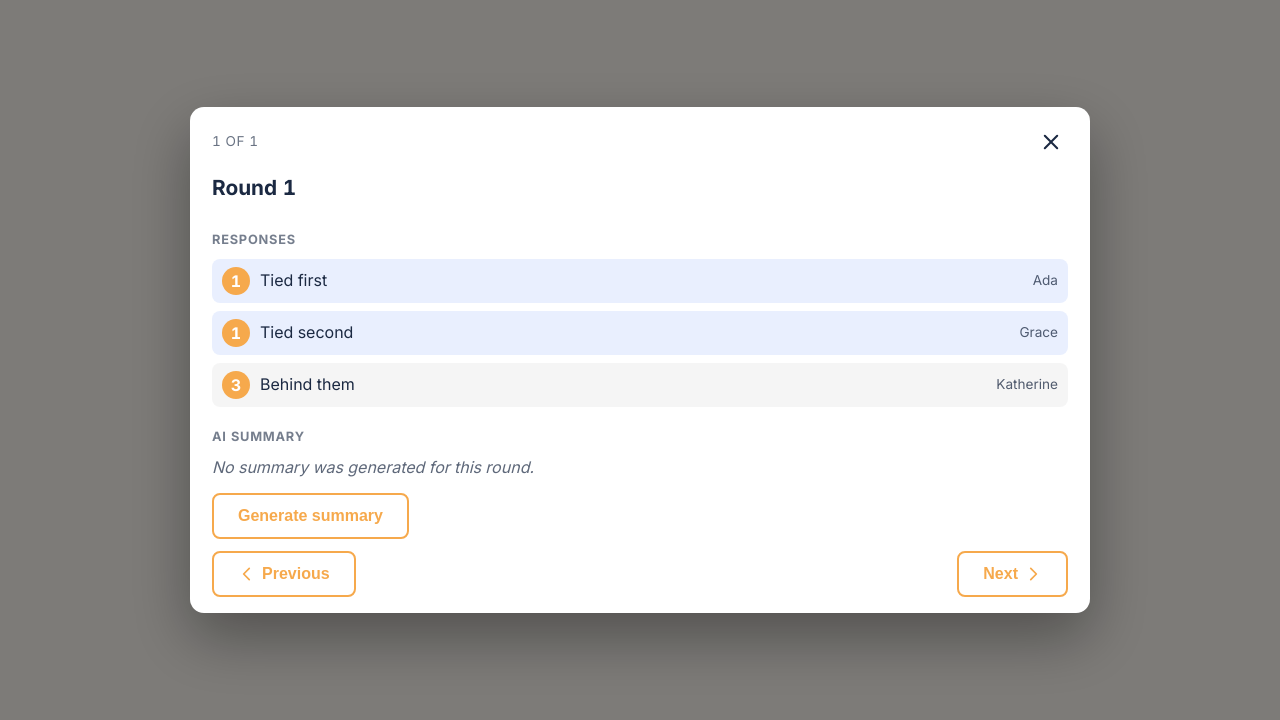
Scenario: opening one response in full › two responses tied at rank 1 open their own answers
Click the button "1" next to "Tied second" at (236, 333), box [222,319,250,347]
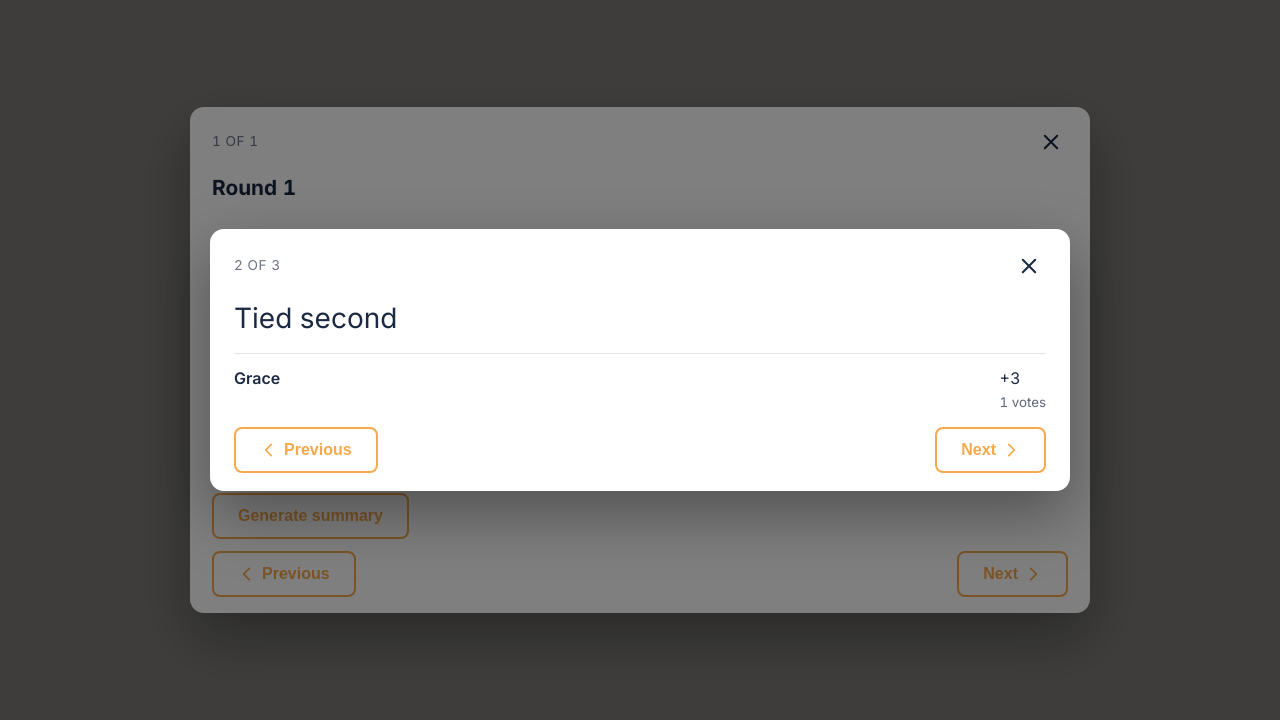
Expected: the element with class "answer-spotlight" does not show "Tied first"
Expected: the dialog with class "answer-spotlight" shows "Tied second", [234,301,397,335]
Expected: the dialog with class "answer-spotlight" shows "Grace", [234,368,280,388]
